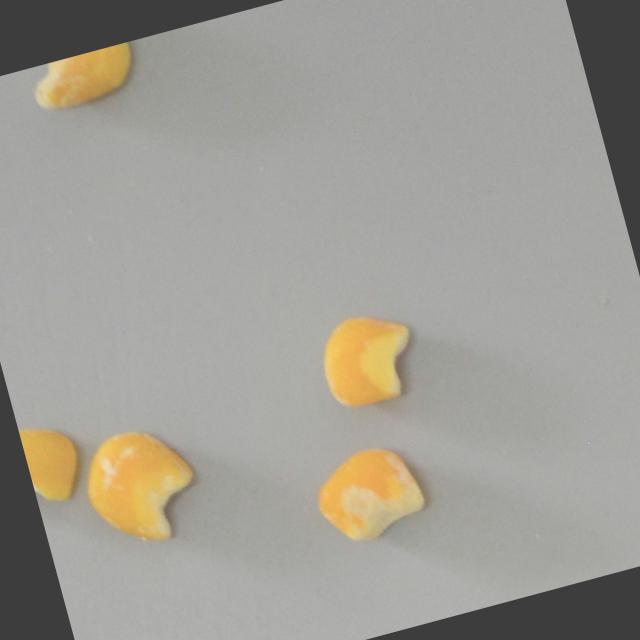no_canjicado: (310, 303, 425, 415)
pelicula: (70, 415, 207, 557), (305, 436, 434, 553), (25, 40, 142, 116), (18, 417, 87, 510)
